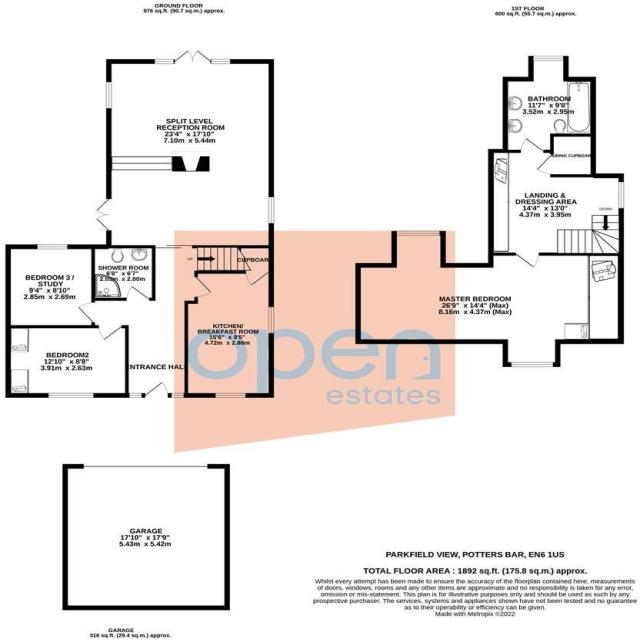DOOR: (194, 275, 213, 298), (144, 381, 169, 398), (97, 325, 123, 341), (125, 285, 151, 301), (520, 137, 545, 153), (77, 302, 95, 323), (515, 253, 540, 268)
DOUBLE DOOR: (174, 46, 212, 64)
ROOM: (355, 230, 624, 367), (94, 49, 274, 248), (184, 269, 275, 398), (5, 325, 129, 398), (5, 244, 96, 329)
WINDOW: (47, 392, 95, 399), (510, 361, 554, 368), (396, 230, 441, 236), (105, 81, 113, 110), (214, 392, 247, 399), (532, 55, 564, 62), (268, 306, 275, 334), (268, 196, 275, 224), (36, 244, 68, 250), (618, 182, 625, 209), (153, 58, 176, 65), (211, 58, 231, 65), (128, 392, 142, 398), (171, 393, 184, 398)
